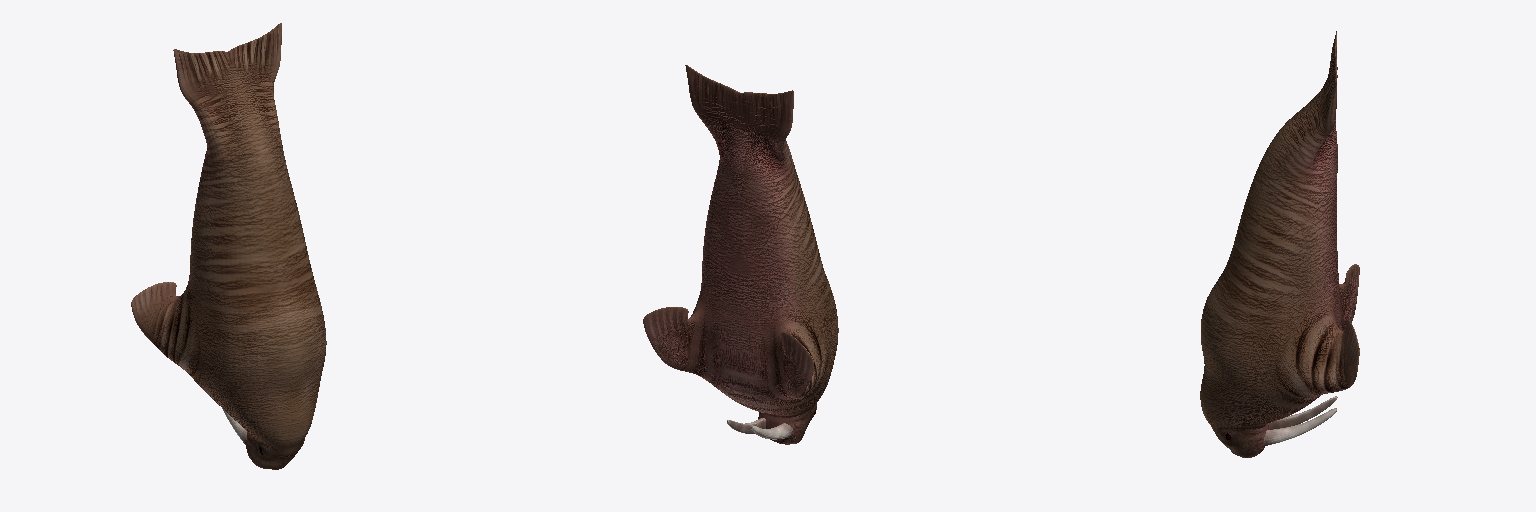
3 views of the same model, side by side, from view 1: azimuth 30°, elevation 25°; view 2: azimuth 150°, elevation 25°; view 3: azimuth 270°, elevation 25° (orthographic).
Parts seen in each view (by area): view 1: 10053_Walrus; view 2: 10053_Walrus; view 3: 10053_Walrus.
Part boxes in pixels (x1,y1,x2,y2): 10053_Walrus: (131, 23, 326, 469); 10053_Walrus: (643, 65, 838, 444); 10053_Walrus: (1200, 31, 1359, 457).
Size of the model in its own units: 129 by 287 by 104.
1 materials, 1 textured.